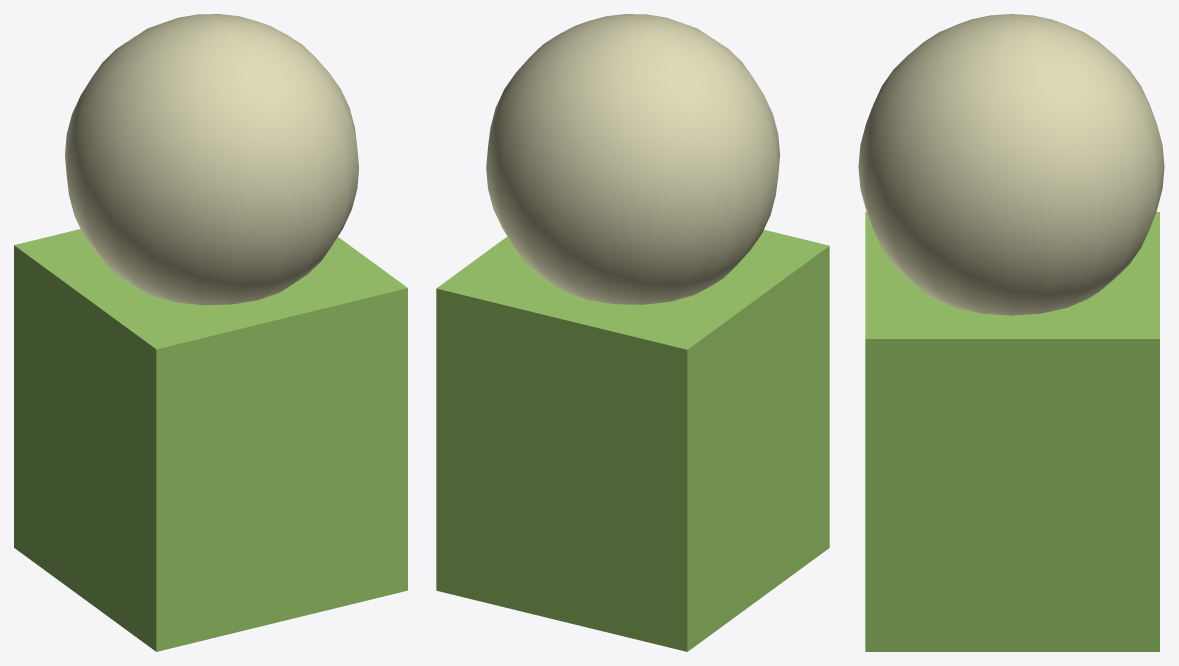
The model's file is RALPH_BasicBlock_BasicColor.fbx.
The picture shows the model from 3 angles, left to right: view 1: azimuth 30°, elevation 25°; view 2: azimuth 150°, elevation 25°; view 3: azimuth 270°, elevation 25°; orthographic projection. The views are drawn at different scales.
Visible parts, largest first — view 1: pCube1, pSphere1; view 2: pCube1, pSphere1; view 3: pCube1, pSphere1.
Part boxes in pixels (left/top/right/bottom): pCube1: left=14, top=229, right=407, bottom=651; pSphere1: left=65, top=14, right=358, bottom=305; pCube1: left=436, top=229, right=829, bottom=651; pSphere1: left=486, top=14, right=779, bottom=304; pCube1: left=865, top=212, right=1159, bottom=651; pSphere1: left=858, top=14, right=1164, bottom=315.
Bounding box in the file's own units: 4.26 × 8.61 × 4.26.
